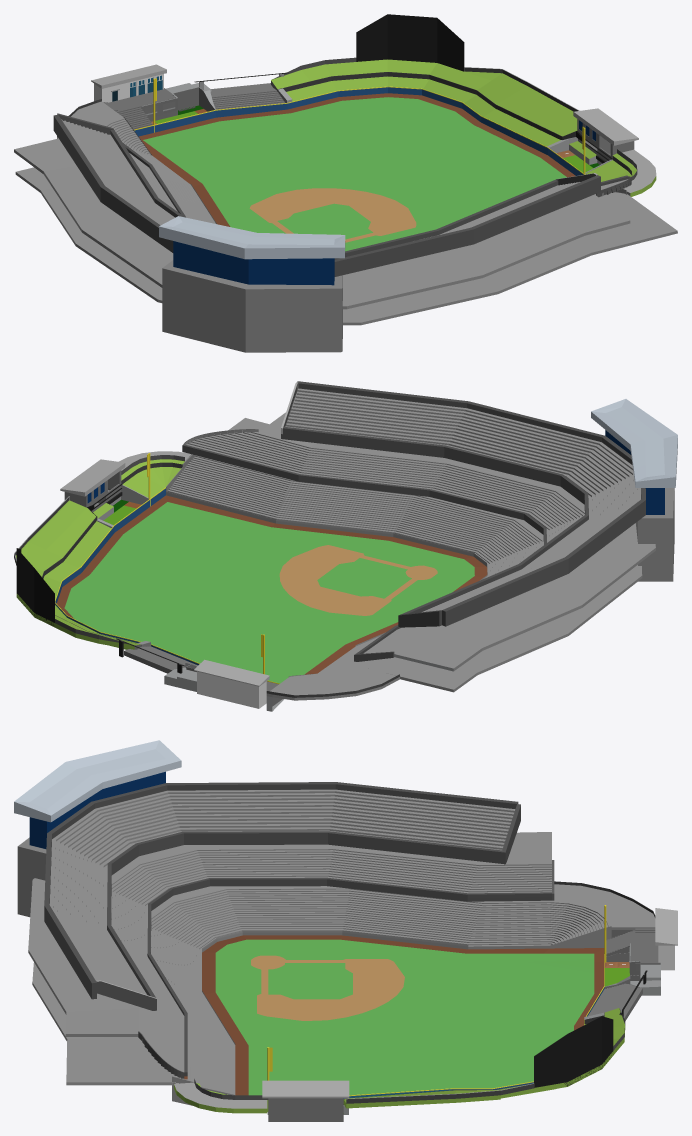
File: stadium.glb
3 renders of one model, top to bottom at view 1: azimuth 30°, elevation 25°; view 2: azimuth 150°, elevation 25°; view 3: azimuth 270°, elevation 25°, orthographic. The views are drawn at different scales.
Parts seen in each view (by area): view 1: Main, Seating; view 2: Main, Seating; view 3: Main, Seating.
Part boxes in pixels (x1,y1,x2,y2): Main: (53, 14, 677, 276); Seating: (14, 101, 677, 352); Main: (14, 381, 645, 708); Seating: (170, 382, 677, 711); Main: (44, 782, 677, 1121); Seating: (14, 740, 655, 1092).
Bounding box in the file's own units: 195 × 39.38 × 199.
Materials: 1 (1 with a texture image).
